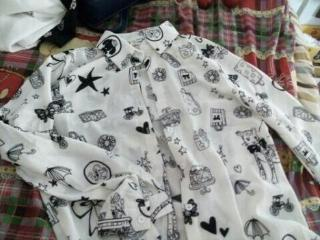long sleeve top: (0, 20, 319, 239)
